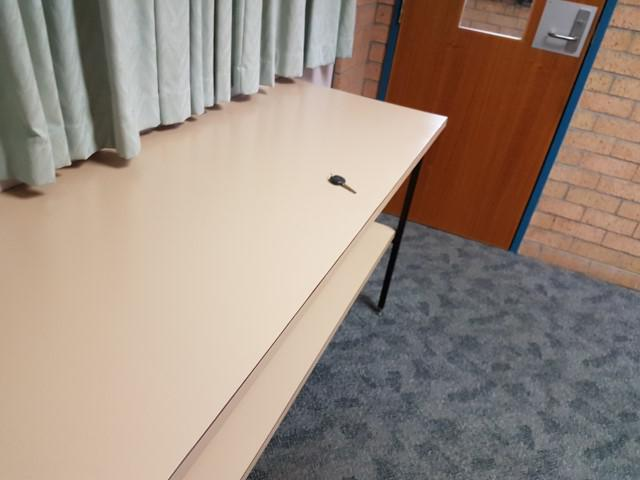key: (329, 175, 357, 194)
